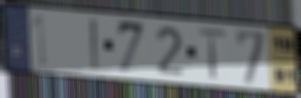1: (31, 14, 48, 67)
2: (154, 25, 186, 77)
7: (233, 26, 267, 87), (114, 19, 148, 74)
I: (88, 16, 102, 73)
T: (196, 26, 229, 82)
